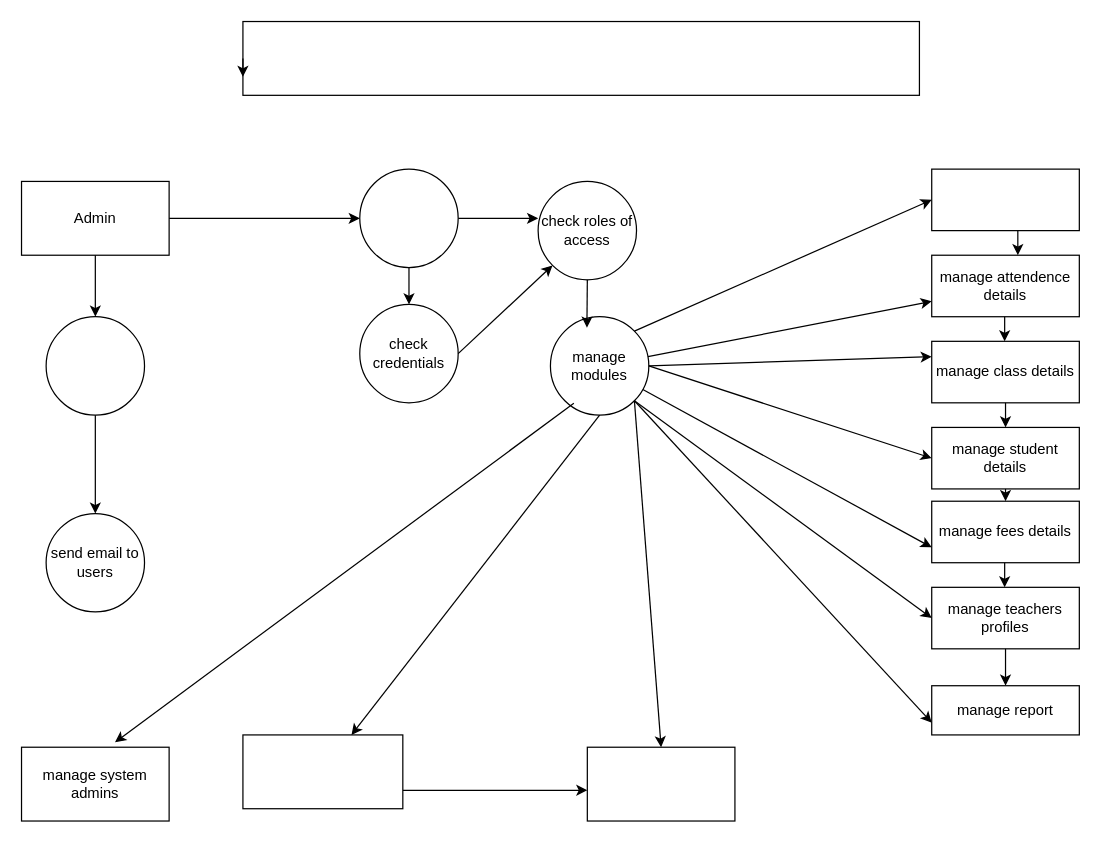
Some shapes in this 1101 by 843 pixel diagram are drawn without their labels. Each missing label, with the centre of its shape:
"Forgot password" goes at point 95,365.
"login to systems" goes at point 408,218.
"manage roles of user" goes at point 322,771.
"manage time table details" goes at point 1004,199.
"manage user permissions" goes at point 660,783.
"student Information system" goes at point 580,57.
